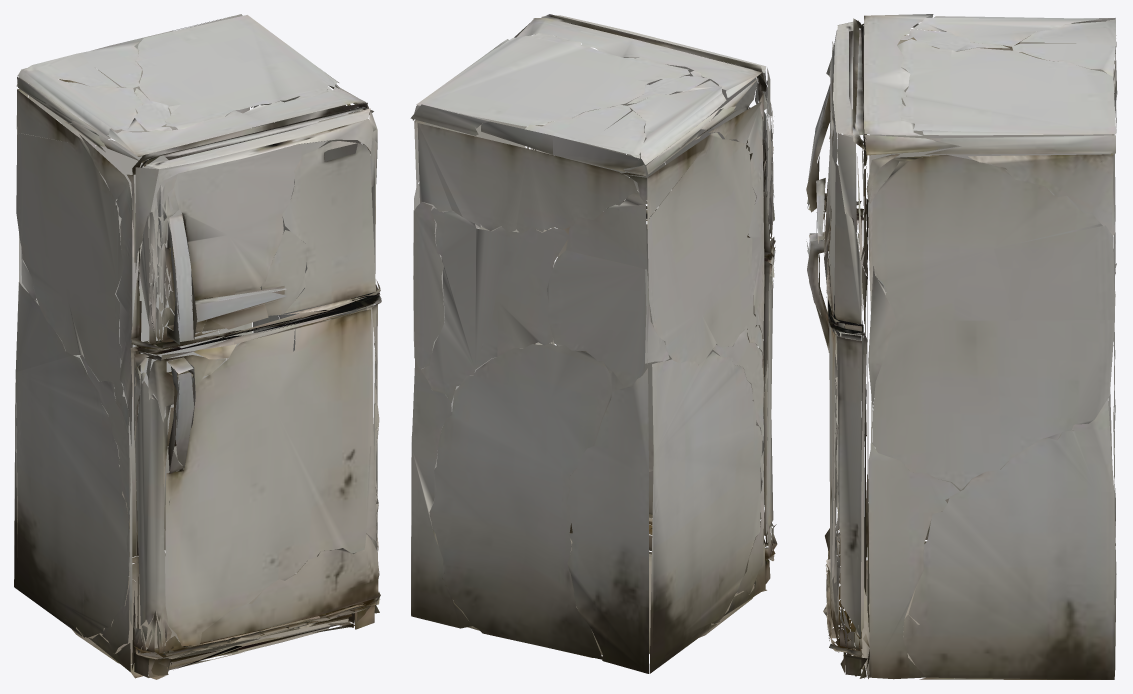
File: fridge_lod2.glb
3 views of the same model, side by side, from view 1: azimuth 30°, elevation 25°; view 2: azimuth 150°, elevation 25°; view 3: azimuth 270°, elevation 25° (orthographic). The views are drawn at different scales.
Visible parts, largest first — view 1: node_0; view 2: node_0; view 3: node_0.
Boxes of the visible parts, bbox=[...] form: node_0: bbox=[14, 14, 381, 679]; node_0: bbox=[410, 14, 777, 673]; node_0: bbox=[806, 14, 1117, 679].
Bounding box in the file's own units: 0.5023 × 1.01 × 0.5189.
1 material, 1 textured.
